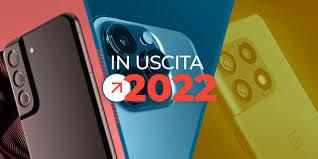Smartphone: (96, 17, 224, 159), (213, 7, 318, 159), (11, 17, 84, 159)
